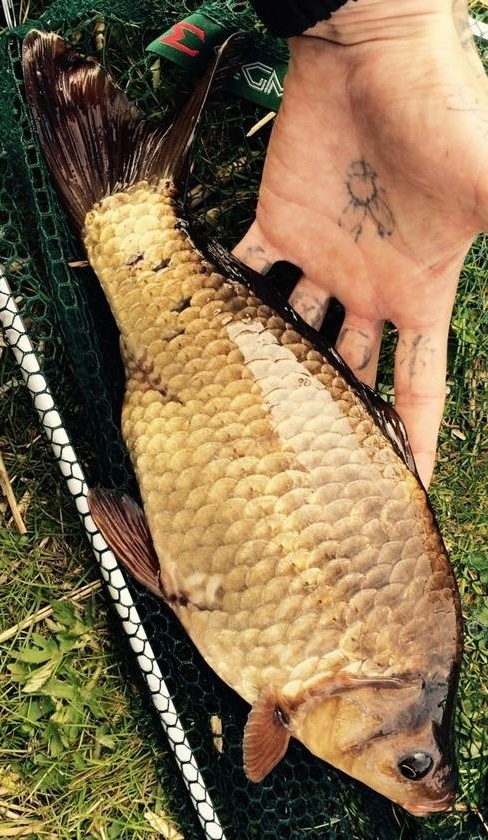Carassius carassius: (20, 20, 468, 820)
